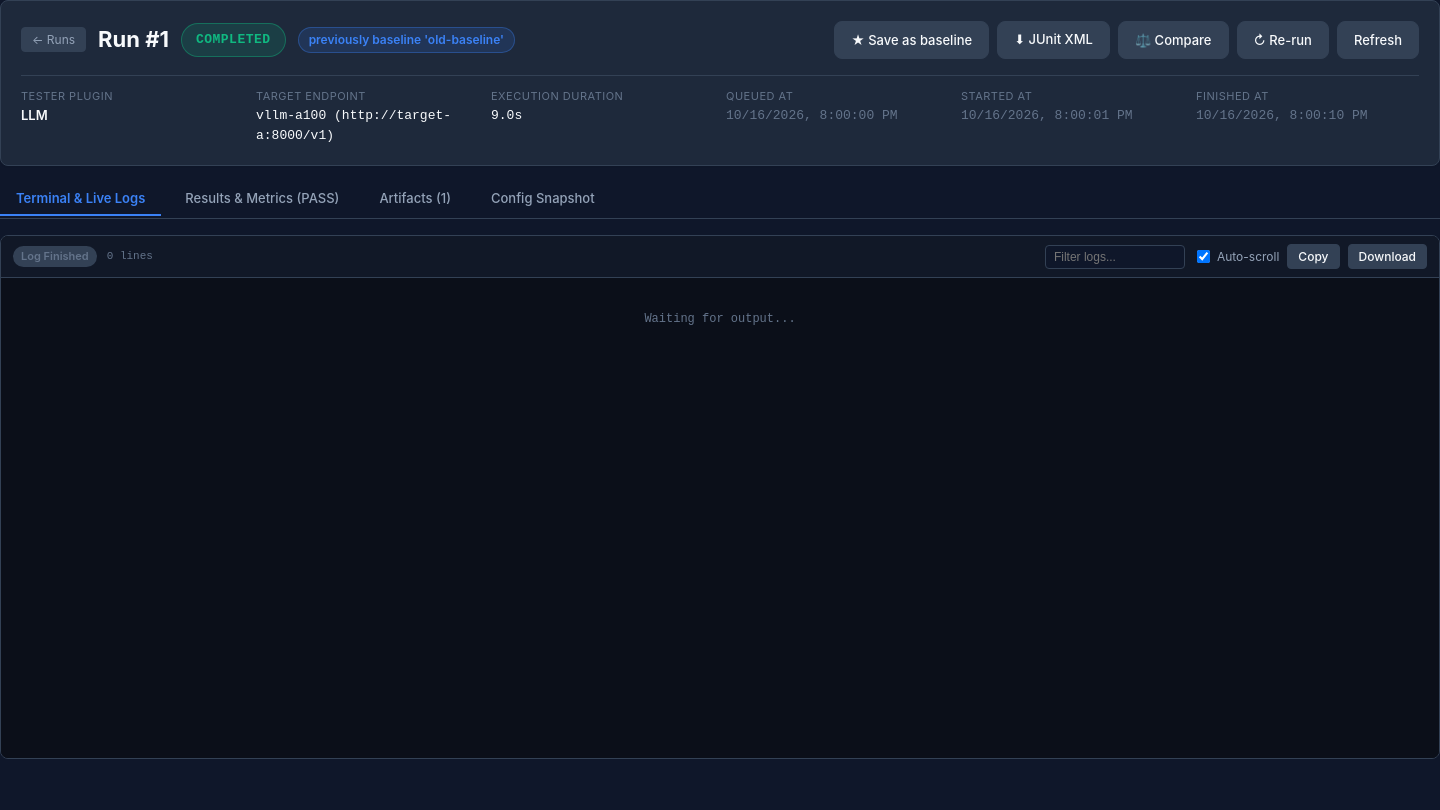
Test: CompareView and Compare UI components › saves, moves on 409 conflict, renames, and removes a baseline in RunDetailView
Expected: the text with test id "previous-baseline-tag-99" reads "previously baseline 'old-baseline'", [298,27,515,53]
Click "★ Save as baseline"
Click the button with test id "save-baseline-btn": (912, 40) [834,21,989,58]
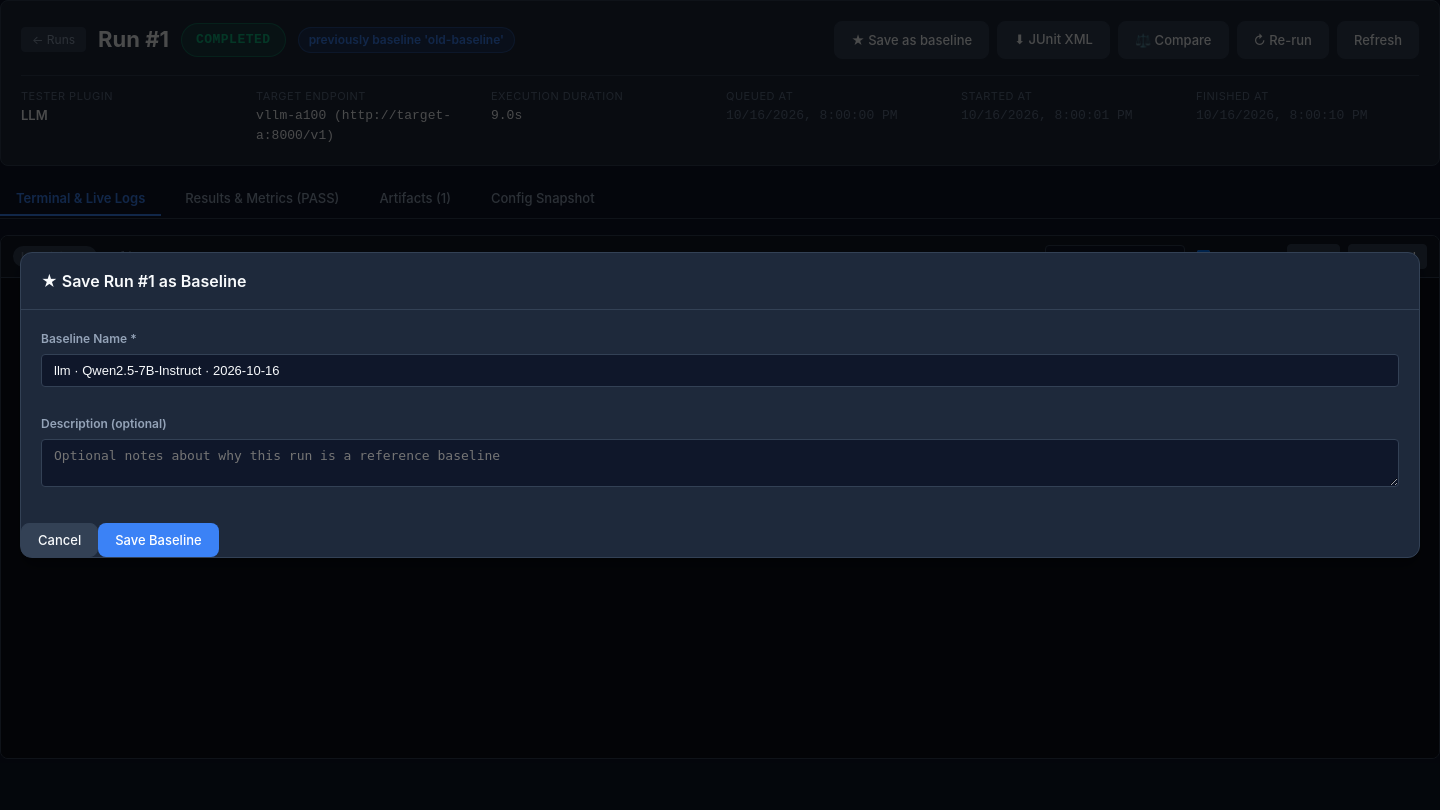
Result: the element with test id "save-baseline-dialog" is shown at [20,252,1420,558]
Replace the text in the field with test id "baseline-name-input" with "shared-baseline": (720, 370) [41,354,1399,387]
Click the button with test id "confirm-save-baseline-btn": (158, 540) [98,523,219,557]
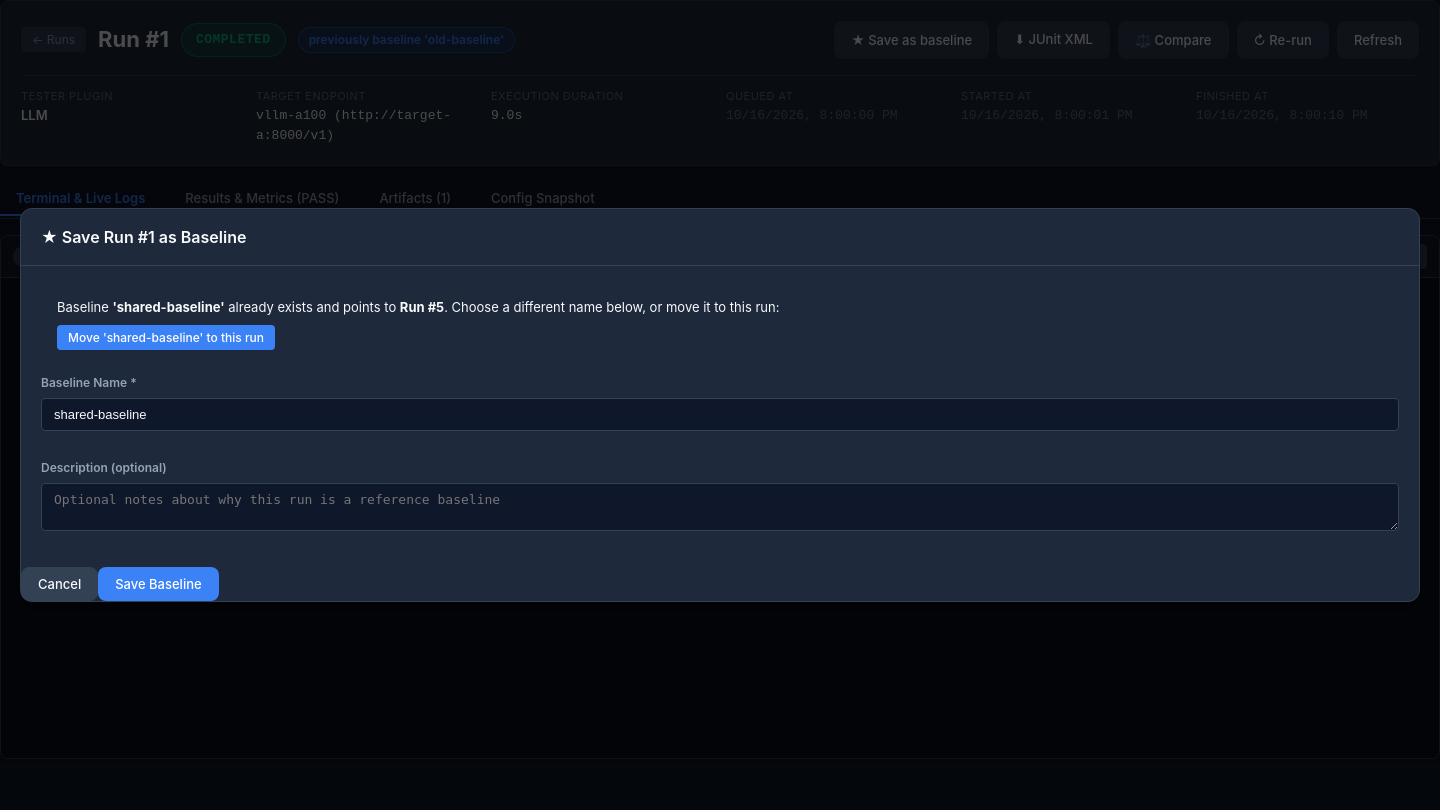
Result: the element with test id "baseline-conflict-banner" shows "Run #5" at [57,299,779,350]
Click the button with test id "move-baseline-btn": (166, 338) [57,325,275,350]
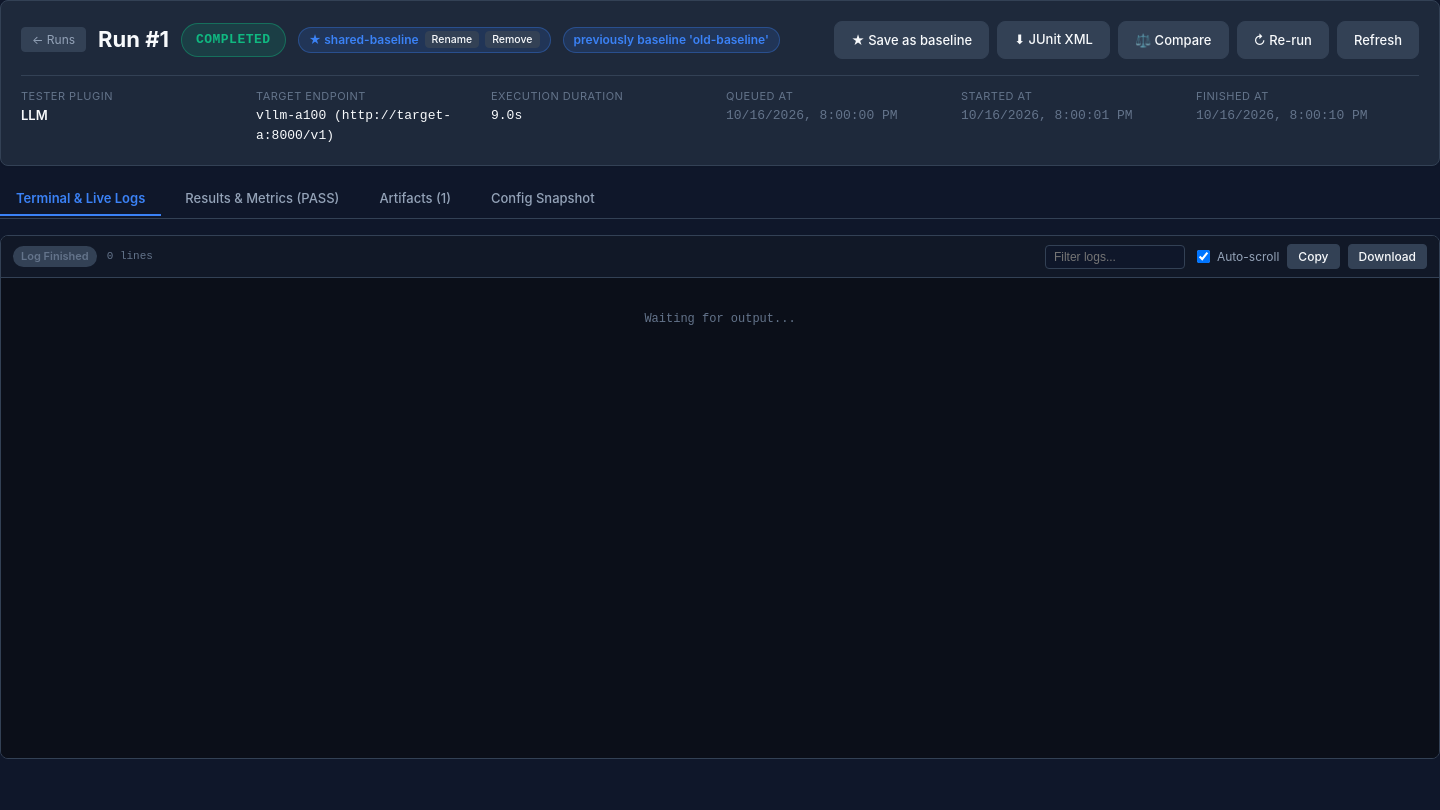
Result: the element with test id "run-baseline-badge-50" shows "★ shared-baseline" at [298,27,550,53]
Rename baseline
Click the button with test id "rename-baseline-btn-50": (452, 40) [425,31,479,48]
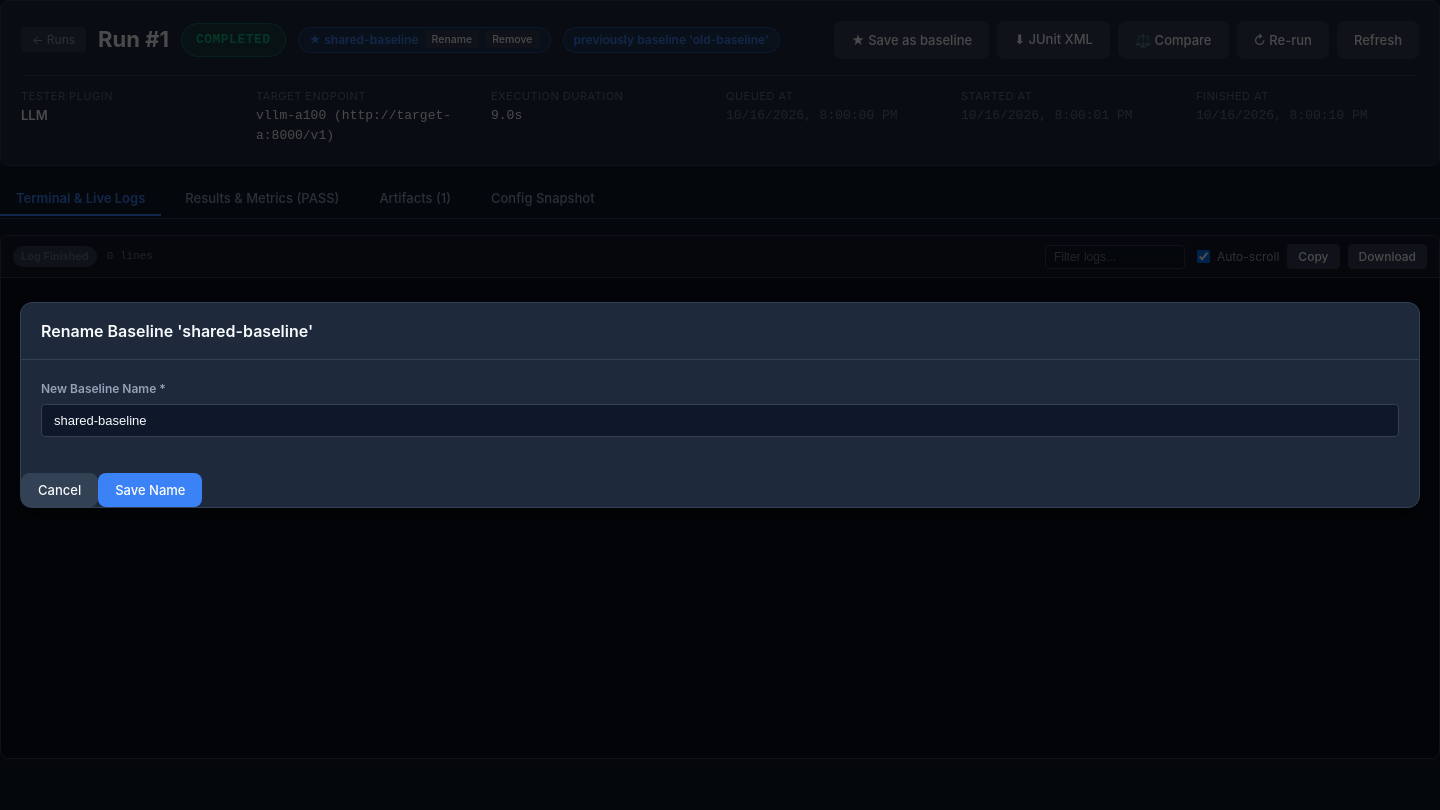
Replace the text in the field with test id "rename-baseline-input" with "renamed-baseline": (720, 420) [41,404,1399,437]
Click the button with test id "confirm-rename-baseline-btn": (150, 490) [98,473,202,507]
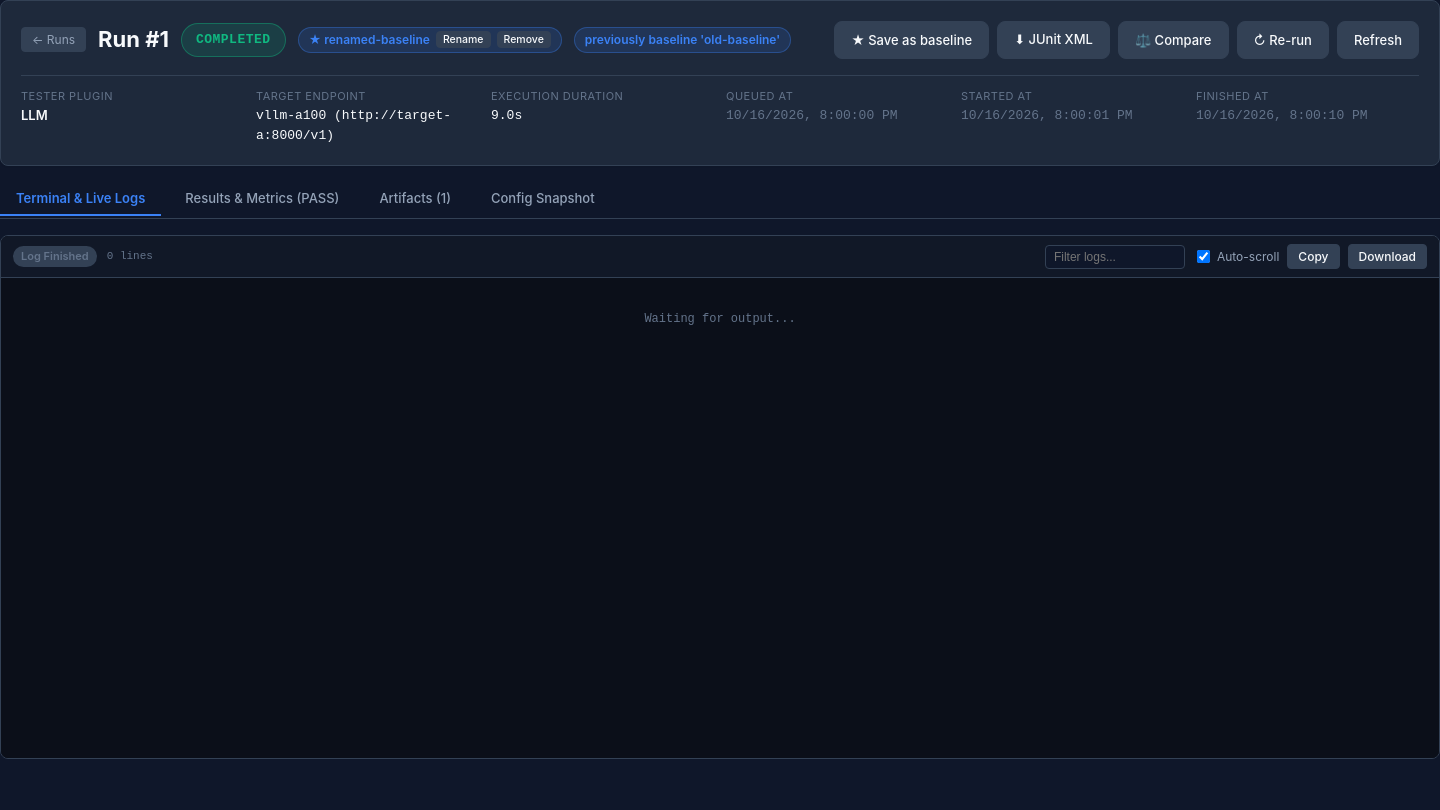
Result: the element with test id "run-baseline-badge-50" shows "★ renamed-baseline" at [298,27,562,53]
Remove baseline
Click the button with test id "remove-baseline-btn-50": (524, 40) [496,31,551,48]
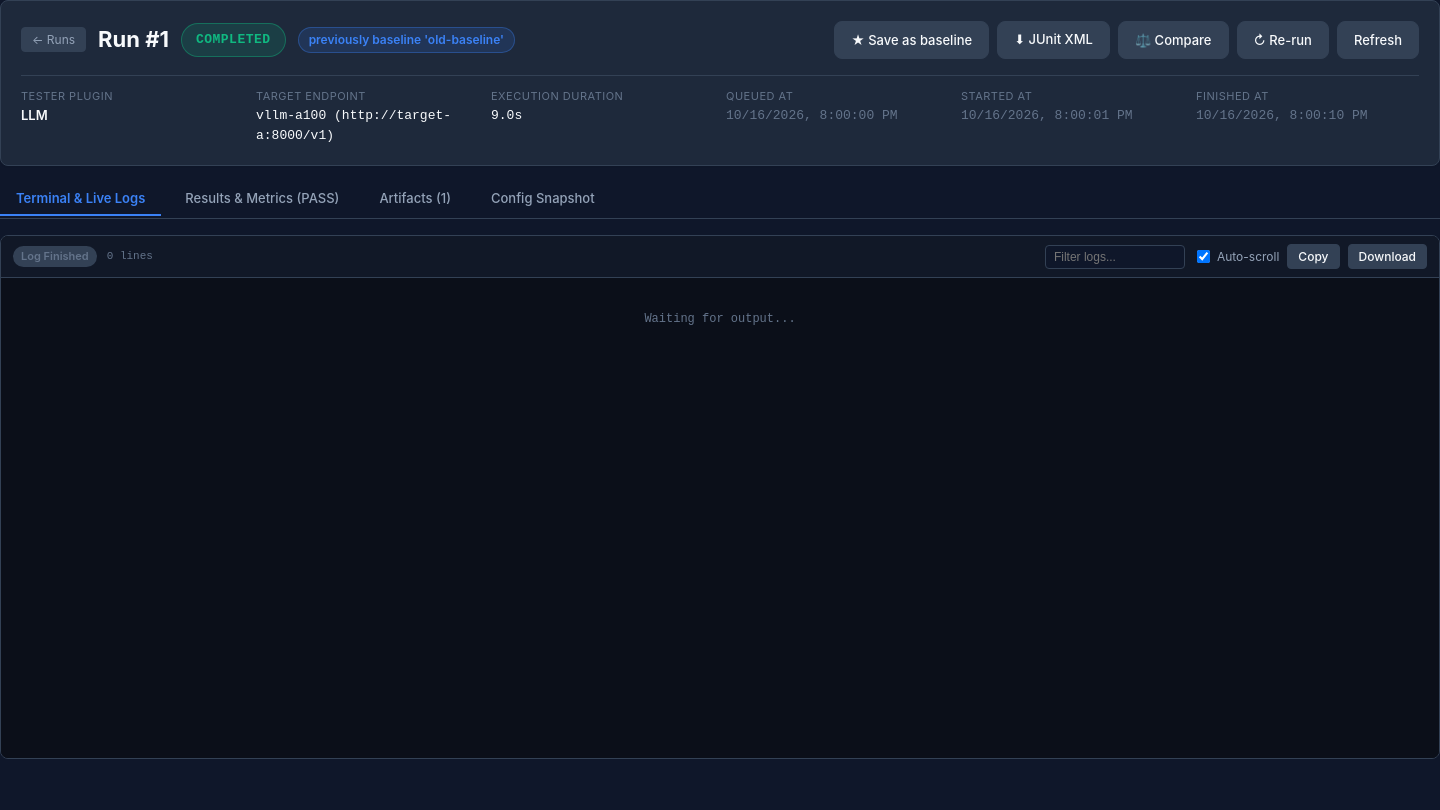
Result: the element with test id "run-baseline-badge-50" is gone
